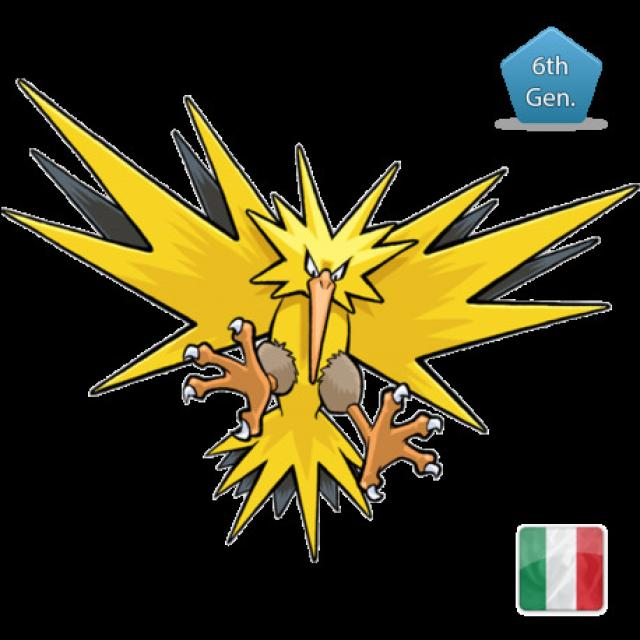Zapdos: (149, 116, 510, 543)
